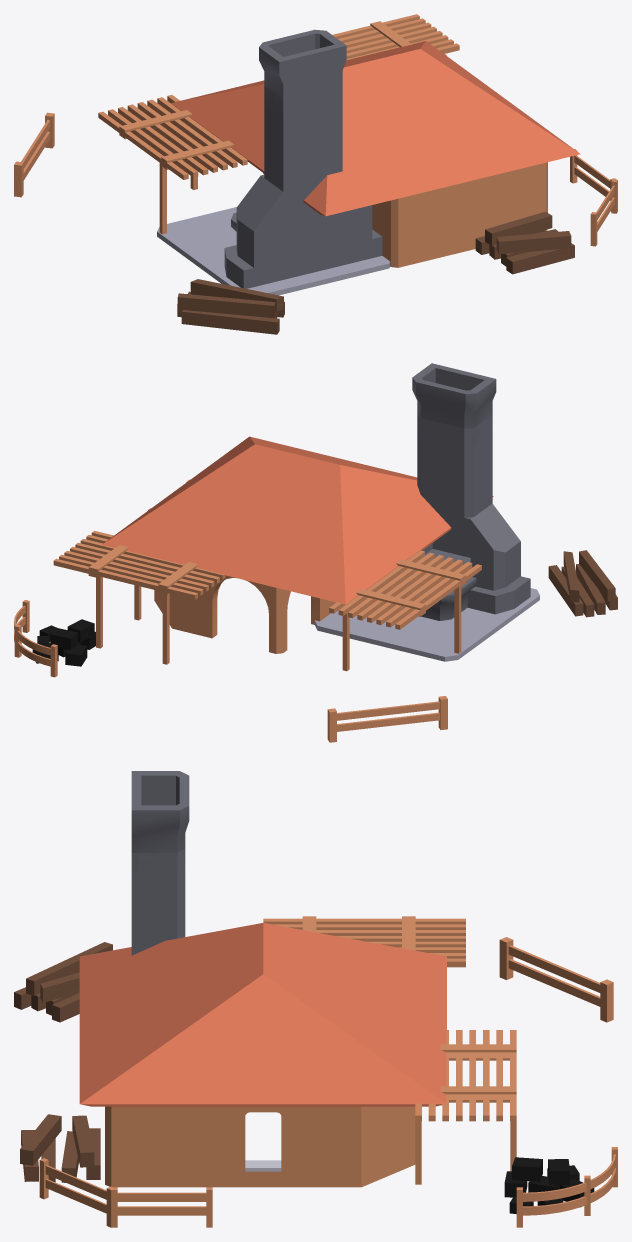
File: Forge.fbx
The picture shows the model from 3 angles, top to bottom: view 1: azimuth 30°, elevation 25°; view 2: azimuth 150°, elevation 25°; view 3: azimuth 270°, elevation 25°; orthographic projection. The views are drawn at different scales.
Parts seen in each view (by area): view 1: roof_end_80, roof_end_82, detail_chimneyBase_59, wall_corner_70, door_gate_93, detail_chimneyTop_60, floor_square_63, debris_wood_90, wall_corner_71, debris_wood_89, door_gate_84, fence_wood_94 (+3 smaller); view 2: roof_end_80, roof_end_82, detail_chimneyBase_59, door_gate_93, floor_square_63, door_gate_84, detail_chimneyTop_60, debris_wood_90, fence_wood_94, debris_bricks_86, wall_archwaySingle_67, wall_cornerDiagonal_69 (+5 smaller); view 3: roof_end_82, roof_end_80, wall_corner_71, wall_cornerDiagonal_69, wall_windowSquare_95, detail_chimneyTop_60, door_gate_84, detail_chimneyBase_59, door_gate_93, debris_wood_89, debris_wood_90, fence_wood_94 (+5 smaller).
Boxes of the visible parts, left/top/right/bottom form: roof_end_80: left=171, top=50, right=491, bottom=216; roof_end_82: left=342, top=41, right=580, bottom=194; detail_chimneyBase_59: left=224, top=85, right=382, bottom=288; wall_corner_70: left=372, top=181, right=472, bottom=267; door_gate_93: left=98, top=95, right=247, bottom=179; detail_chimneyTop_60: left=259, top=29, right=346, bottom=121; floor_square_63: left=157, top=207, right=390, bottom=295; debris_wood_90: left=177, top=279, right=284, bottom=334; wall_corner_71: left=472, top=162, right=547, bottom=249; debris_wood_89: left=475, top=211, right=574, bottom=274; door_gate_84: left=332, top=14, right=459, bottom=60; fence_wood_94: left=14, top=112, right=54, bottom=197; roof_end_80: left=189, top=445, right=493, bottom=604; roof_end_82: left=102, top=436, right=336, bottom=583; detail_chimneyBase_59: left=417, top=414, right=530, bottom=614; door_gate_93: left=329, top=550, right=481, bottom=629; floor_square_63: left=314, top=588, right=539, bottom=661; door_gate_84: left=53, top=530, right=225, bottom=599; detail_chimneyTop_60: left=412, top=363, right=496, bottom=450; debris_wood_90: left=548, top=550, right=617, bottom=617; fence_wood_94: left=327, top=696, right=447, bottom=742; debris_bricks_86: left=32, top=619, right=95, bottom=666; wall_archwaySingle_67: left=205, top=575, right=282, bottom=653; wall_cornerDiagonal_69: left=154, top=590, right=205, bottom=636; roof_end_82: left=79, top=945, right=446, bottom=1106; roof_end_80: left=79, top=923, right=446, bottom=1052; wall_corner_71: left=105, top=1106, right=212, bottom=1187; wall_cornerDiagonal_69: left=314, top=1106, right=415, bottom=1187; wall_windowSquare_95: left=212, top=1106, right=313, bottom=1187; detail_chimneyTop_60: left=131, top=771, right=189, bottom=880; door_gate_84: left=415, top=1030, right=516, bottom=1121; detail_chimneyBase_59: left=131, top=849, right=185, bottom=955; door_gate_93: left=263, top=916, right=465, bottom=967; debris_wood_89: left=20, top=1114, right=100, bottom=1182; debris_wood_90: left=14, top=942, right=112, bottom=1022; fence_wood_94: left=499, top=937, right=613, bottom=1022.
Bounding box in the file's own units: 59.9 × 28.92 × 59.6.
